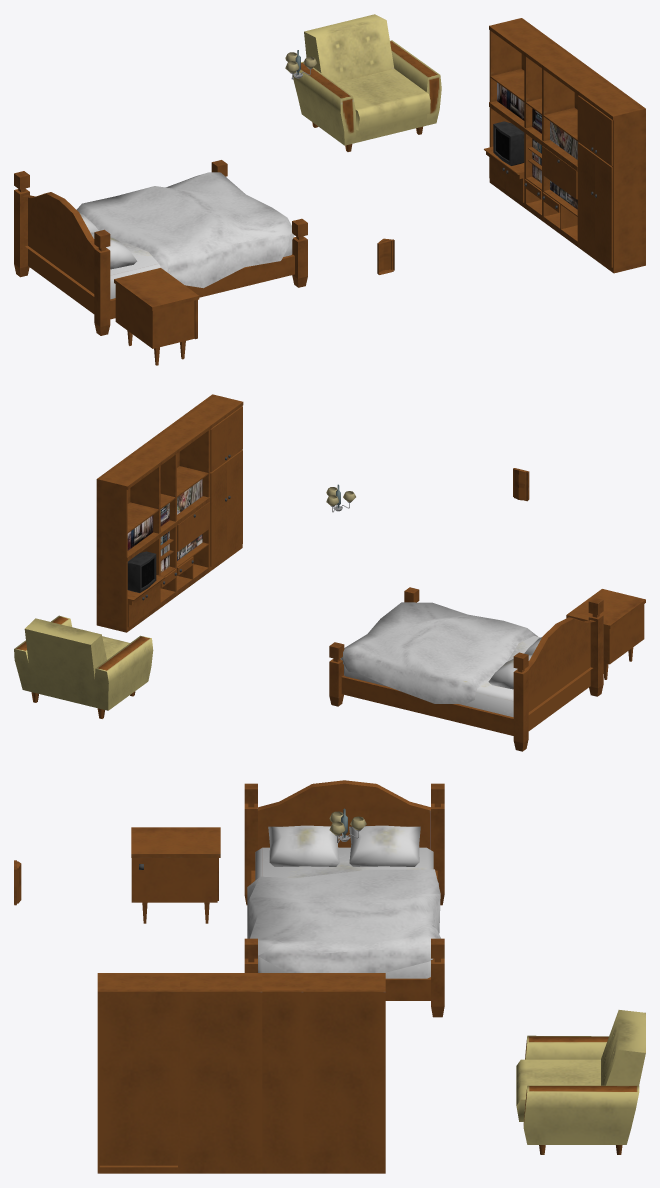
File: BedRoom.fbx
The picture shows the model from 3 angles, top to bottom: view 1: azimuth 30°, elevation 25°; view 2: azimuth 150°, elevation 25°; view 3: azimuth 270°, elevation 25°; orthographic projection. The views are drawn at different scales.
Visible parts, largest first — view 1: Bed_Blanket, Armchair, Bed_Base, Closet_Secret, Nightstand_Base, Closet_Cargo, Closet_Tv, Closet_Middle, Closet_Secret_Door_BR, Closet_Secret_Door_BL, Closet_Cargo_Door_UpDown, Tv (+7 smaller); view 2: Bed_Base, Bed_Blanket, Armchair, Closet_Tv, Closet_Cargo, Nightstand_Base, Closet_Middle, Closet_Secret_Door_BL, Closet_Secret, Closet_Secret_Door_BR, Closet_Cargo_Door_UpDown, Tv (+5 smaller); view 3: Bed_Blanket, Closet_Cargo, Closet_Tv, Bed_Base, Armchair, Closet_Secret_Backside, Closet_Middle, Closet_Secret, Bed_Pillows, Nightstand_Door, Nightstand_Base, Chandelier.
Part boxes in pixels (x1,y1,x2,y2): Bed_Blanket: (76,172,294,288); Armchair: (293,14,441,151); Bed_Base: (14,160,307,335); Closet_Secret: (577,82,645,273); Nightstand_Base: (114,268,199,365); Closet_Cargo: (542,57,609,246); Closet_Tv: (484,18,556,208); Closet_Middle: (524,44,574,221); Closet_Secret_Door_BR: (594,155,612,267); Closet_Secret_Door_BL: (578,142,595,254); Closet_Cargo_Door_UpDown: (542,146,577,199); Tv: (493,121,524,165); Bed_Base: (329,587,603,751); Bed_Blanket: (340,602,537,703); Armchair: (14,615,153,718); Closet_Tv: (96,455,165,632); Closet_Cargo: (147,418,210,595); Nightstand_Base: (566,589,645,679); Closet_Middle: (130,442,177,607); Closet_Secret_Door_BL: (210,461,227,566); Closet_Secret: (179,394,243,571); Closet_Secret_Door_BR: (226,450,242,554); Closet_Cargo_Door_UpDown: (177,502,209,551); Tv: (127,551,156,592); Bed_Blanket: (247,869,440,972); Closet_Cargo: (180,973,262,1173); Closet_Tv: (303,973,385,1173); Bed_Base: (244,780,444,1017); Armchair: (516,1010,645,1154); Closet_Secret_Backside: (99,1051,177,1165); Closet_Middle: (262,973,303,1173); Closet_Secret: (97,973,179,1173); Bed_Pillows: (268,825,420,866); Nightstand_Door: (131,858,217,902); Nightstand_Base: (131,827,220,923); Chandelier: (329,808,366,842).
Size of the model in its own units: 9 by 3.5 by 8.79.
